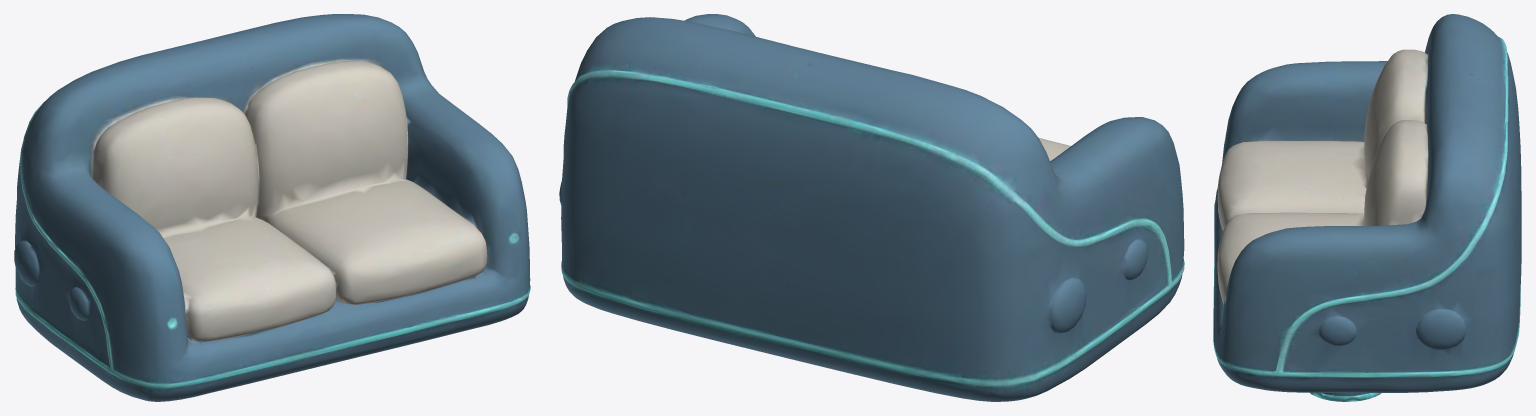
File: living_sofa.glb
The picture shows the model from 3 angles, left to right: view 1: azimuth 30°, elevation 25°; view 2: azimuth 150°, elevation 25°; view 3: azimuth 270°, elevation 25°; orthographic projection. The views are drawn at different scales.
Parts seen in each view (by area): view 1: tripo_node_09cd2fe0-79ce-4f3f-a99d-b83208d15cc7; view 2: tripo_node_09cd2fe0-79ce-4f3f-a99d-b83208d15cc7; view 3: tripo_node_09cd2fe0-79ce-4f3f-a99d-b83208d15cc7.
Part boxes in pixels (x1,y1,x2,y2): tripo_node_09cd2fe0-79ce-4f3f-a99d-b83208d15cc7: [14, 14, 530, 401]; tripo_node_09cd2fe0-79ce-4f3f-a99d-b83208d15cc7: [559, 14, 1184, 401]; tripo_node_09cd2fe0-79ce-4f3f-a99d-b83208d15cc7: [1213, 14, 1521, 401].
Size of the model in its own units: 1.8 by 1.07 by 1.19.
Materials: 1 (1 with a texture image).
